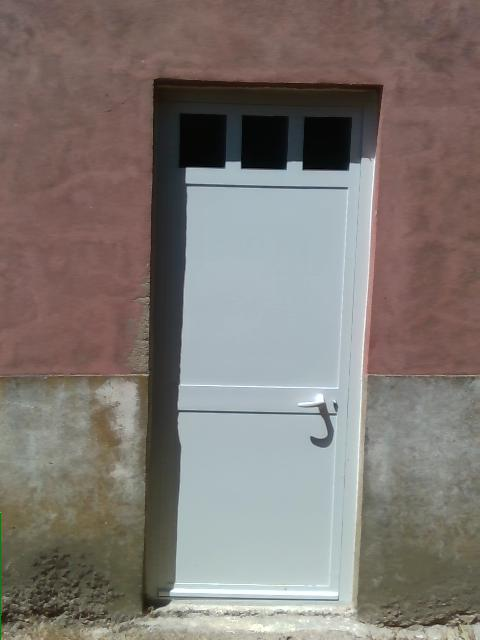door: (138, 76, 380, 617)
